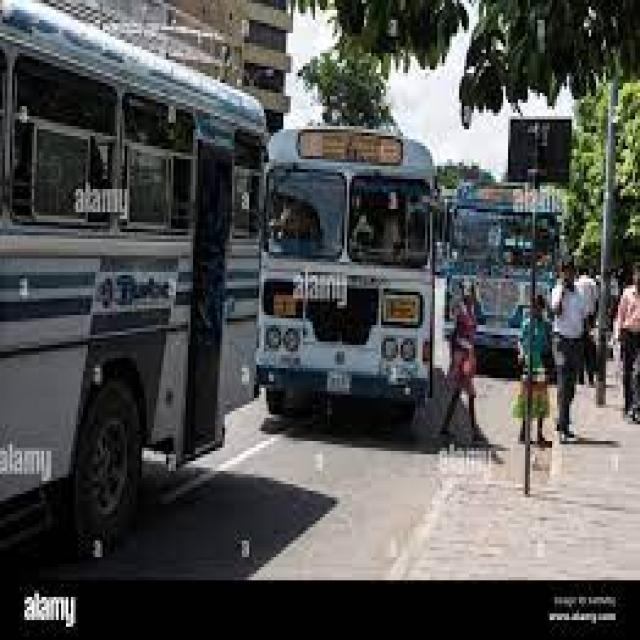bus: (0, 0, 264, 557), (256, 126, 432, 411), (440, 186, 557, 375)
person: (515, 295, 547, 491), (550, 265, 584, 441), (442, 295, 479, 438), (616, 265, 638, 411), (576, 269, 596, 385)
